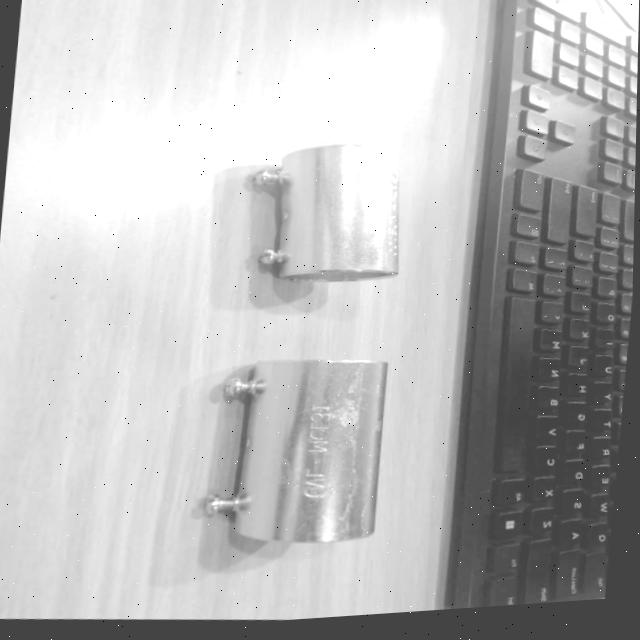Co_Lon: (194, 342, 389, 552)
Co_Nho: (253, 143, 399, 282)
